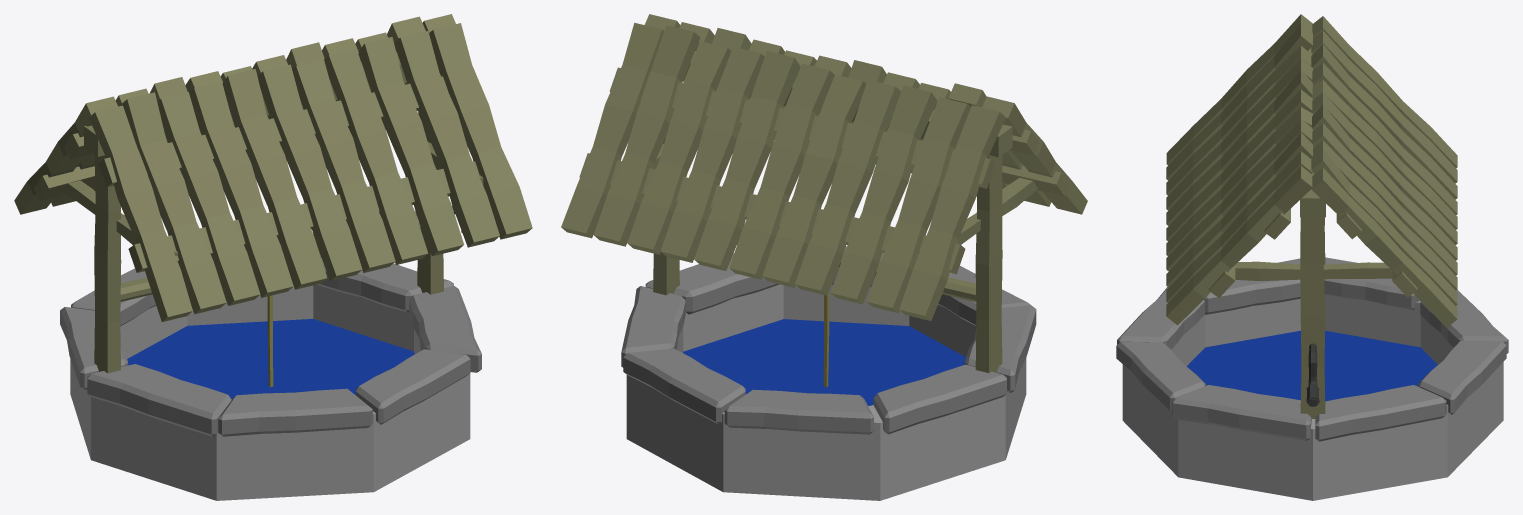
The model's file is well.fbx.
3 views of the same model, side by side, from view 1: azimuth 30°, elevation 25°; view 2: azimuth 150°, elevation 25°; view 3: azimuth 270°, elevation 25° (orthographic). The views are drawn at different scales.
Parts seen in each view (by area): view 1: Well; view 2: Well; view 3: Well.
Part boxes in pixels (x1,y1,x2,y2): Well: [14, 14, 532, 500]; Well: [561, 14, 1087, 500]; Well: [1116, 14, 1508, 500].
Size of the model in its own units: 236 by 191 by 206.
